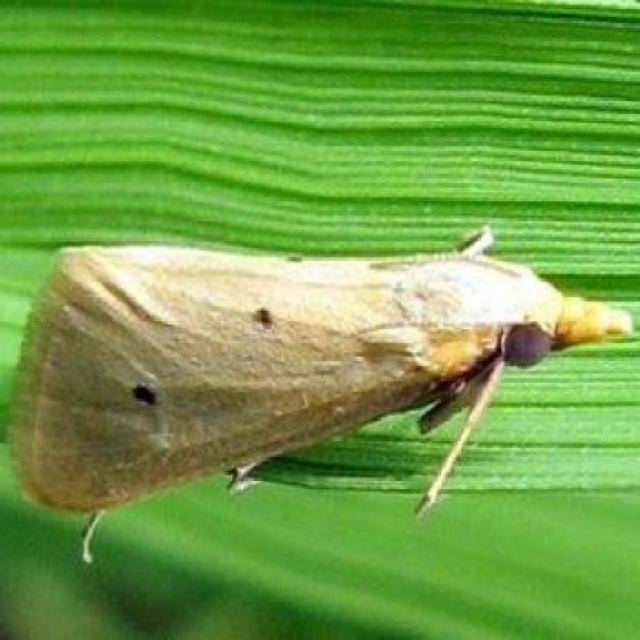stem-borer: (0, 233, 640, 542)
